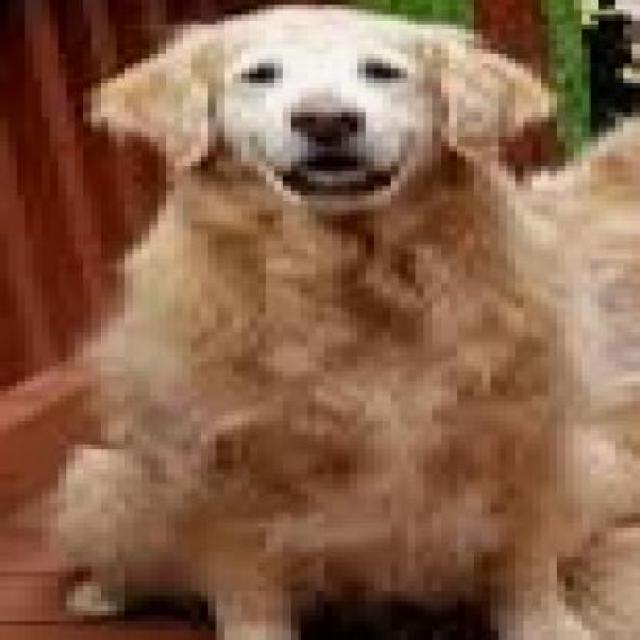Dog: (50, 0, 632, 635)
